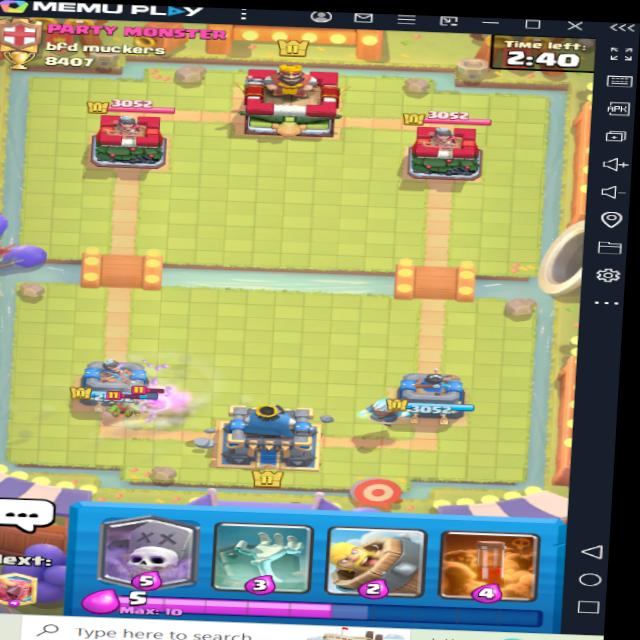goblin: (92, 390, 139, 416), (138, 384, 170, 409)
